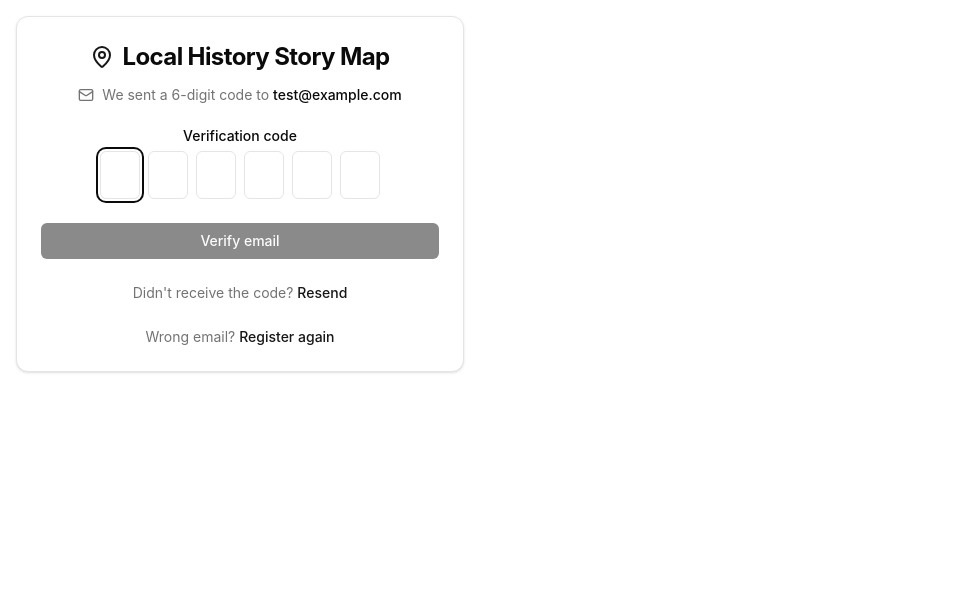
VerifyEmailPage › auto-logs in and navigates to /complete-profile when password is in state
The width and height of the screenshot is (960, 599).
Type keys "123456"
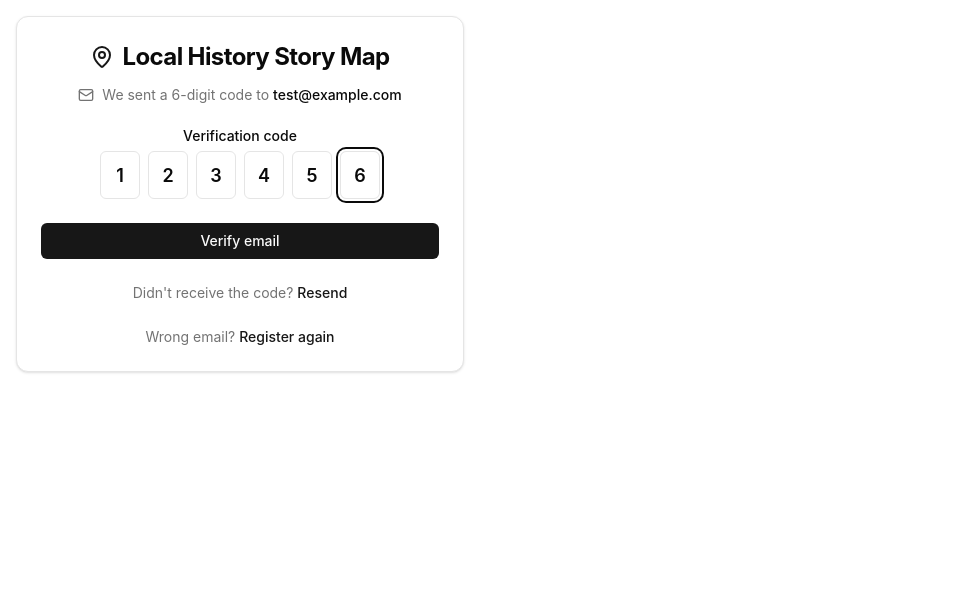
Click the button "Verify email" at (240, 241), box left=41, top=223, right=439, bottom=259
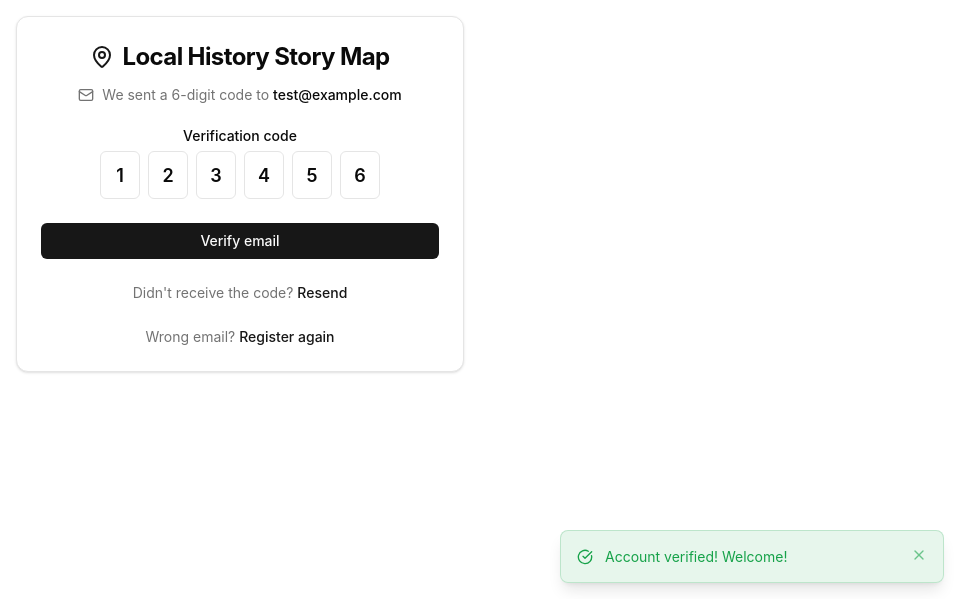
Check: the text "Account verified! Welcome!" is shown, box left=605, top=548, right=787, bottom=565
